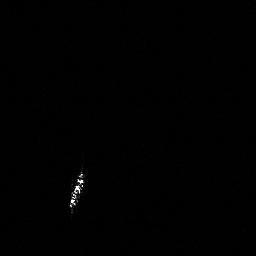ship: (64, 166, 90, 212)
